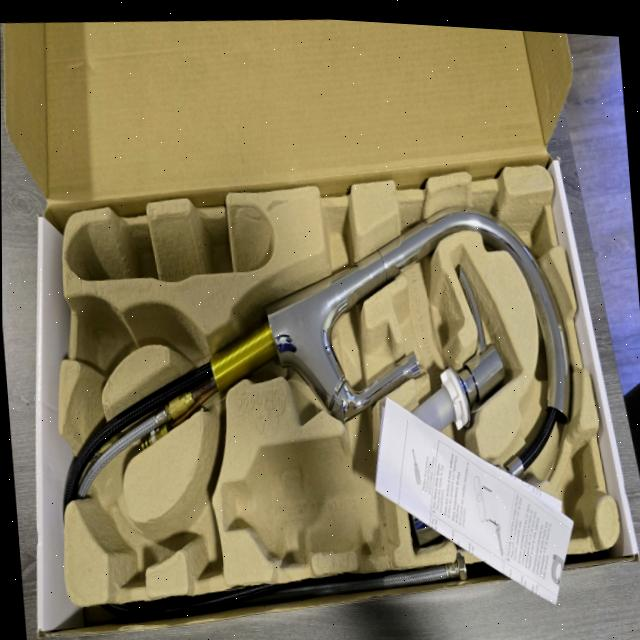1o: (60, 206, 570, 544)
2o: (409, 261, 506, 446)
3m: (223, 433, 398, 558)
4m: (65, 204, 272, 280)
5m: (78, 311, 132, 375)
6m: (96, 502, 157, 581)
7m: (164, 458, 222, 578)
8: (373, 395, 575, 606)
